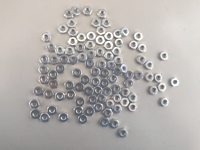nut: (29, 99, 40, 109), (30, 110, 41, 120), (47, 106, 58, 116), (58, 113, 69, 123), (41, 33, 52, 43), (68, 27, 79, 37), (96, 25, 107, 35), (74, 106, 85, 116), (78, 115, 88, 125), (100, 118, 110, 128), (110, 119, 120, 129), (44, 89, 54, 99), (39, 64, 49, 74), (39, 75, 49, 85), (55, 64, 65, 74), (58, 24, 68, 34), (67, 18, 77, 28), (87, 31, 97, 41), (83, 6, 93, 16), (73, 68, 83, 78), (69, 55, 79, 65), (39, 55, 49, 65), (55, 46, 65, 56), (66, 90, 76, 100), (134, 70, 144, 80), (170, 78, 180, 88), (71, 6, 81, 16), (85, 107, 95, 117), (33, 87, 44, 96), (97, 9, 108, 18), (86, 50, 97, 59), (85, 59, 96, 68), (46, 43, 57, 52), (75, 98, 86, 107), (40, 113, 50, 122), (118, 129, 128, 138), (137, 55, 146, 65), (77, 33, 87, 42), (68, 37, 78, 46), (104, 41, 114, 50), (97, 60, 107, 69), (81, 75, 91, 84), (65, 81, 75, 90), (55, 92, 65, 101), (103, 109, 113, 118), (88, 95, 98, 104), (112, 85, 122, 94), (108, 75, 118, 84), (124, 79, 134, 88), (105, 100, 115, 109), (91, 78, 101, 87), (91, 68, 101, 77), (100, 69, 110, 78), (104, 52, 114, 61), (115, 38, 124, 48), (121, 27, 130, 37), (129, 40, 138, 50), (64, 9, 74, 18), (129, 93, 138, 103), (49, 80, 59, 89), (112, 47, 122, 56), (50, 55, 59, 65), (103, 87, 112, 97), (76, 44, 86, 53), (102, 18, 112, 27), (89, 95, 98, 105), (95, 48, 105, 57), (78, 53, 88, 62), (98, 94, 107, 104), (135, 32, 144, 41), (114, 29, 123, 38), (138, 44, 147, 53), (160, 52, 169, 61), (145, 61, 154, 70), (150, 86, 159, 95), (129, 103, 138, 112), (114, 56, 123, 65), (113, 105, 122, 114), (96, 36, 105, 45), (113, 94, 122, 103), (121, 98, 130, 107), (85, 87, 94, 96), (119, 65, 128, 74), (94, 87, 103, 96), (66, 46, 75, 55), (86, 41, 95, 50), (160, 99, 170, 107), (95, 103, 103, 113), (126, 71, 134, 80), (92, 19, 101, 27), (146, 73, 154, 82), (155, 74, 163, 83), (76, 83, 84, 92), (101, 79, 110, 87), (60, 56, 68, 65), (107, 62, 116, 70), (105, 33, 114, 41), (159, 84, 167, 92), (122, 89, 130, 97), (50, 71, 57, 78)
